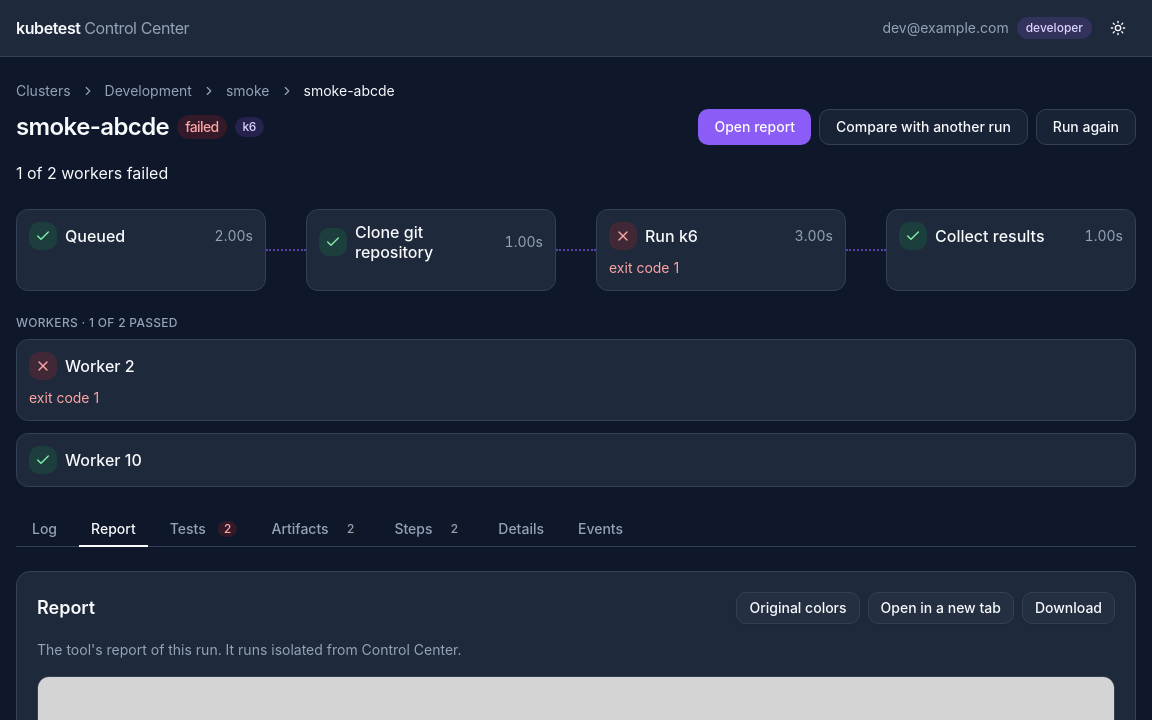
Test: run page › inverts tool frames in the dark theme unless original colours are chosen
What coordinates should you click on to do the following:
click the button "Original colors"
I would click on:
 (798, 608)
Its box is [736, 592, 860, 624].
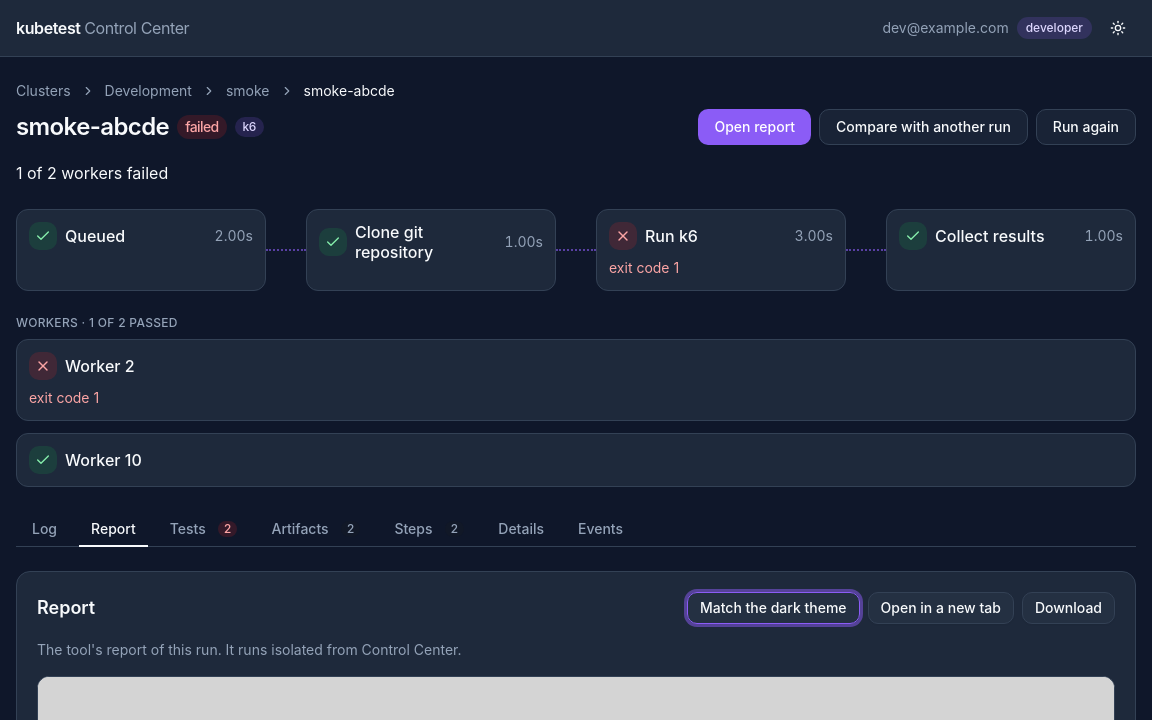
What coordinates should you click on to do the following:
click the button "Match the dark theme"
I would click on:
 (773, 608)
Its box is [687, 592, 860, 624].
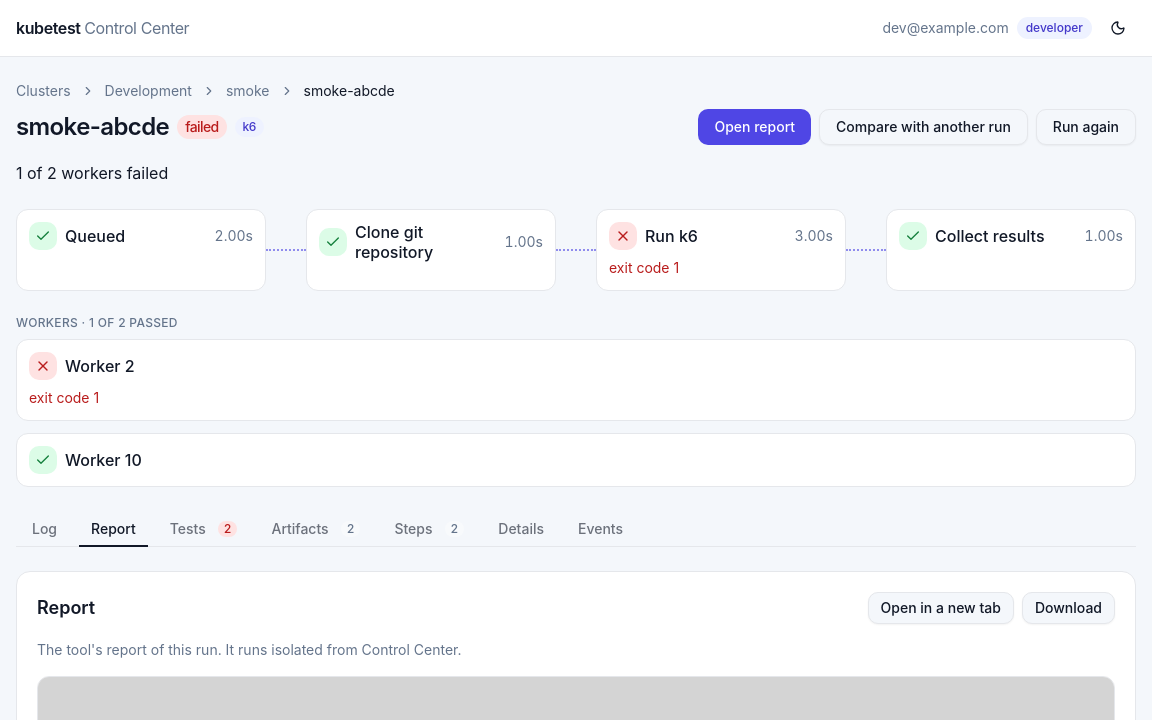
expect the button "Match the dark theme" is gone: met
